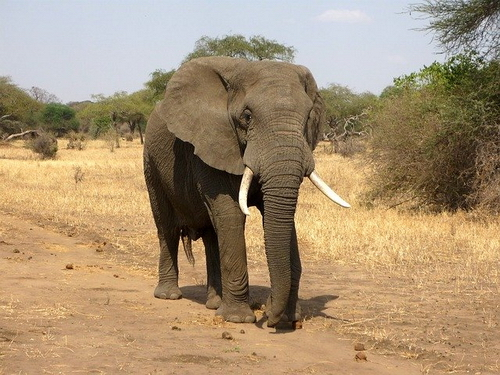elephant: (139, 53, 355, 334)
